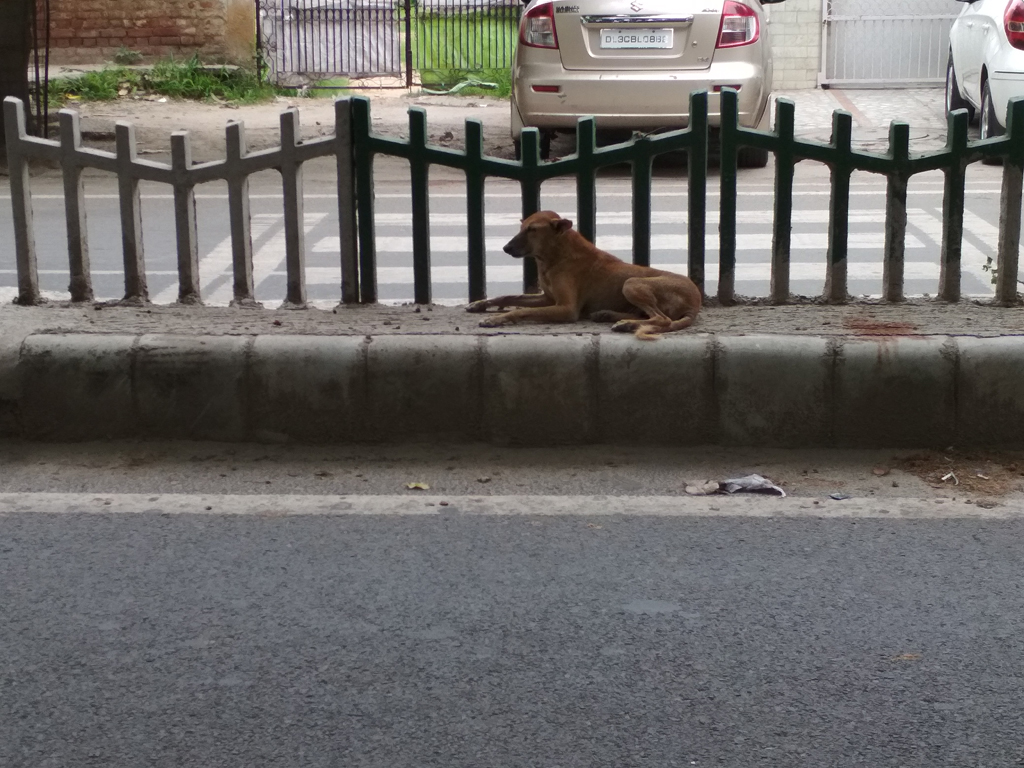dog: (466, 210, 702, 343)
